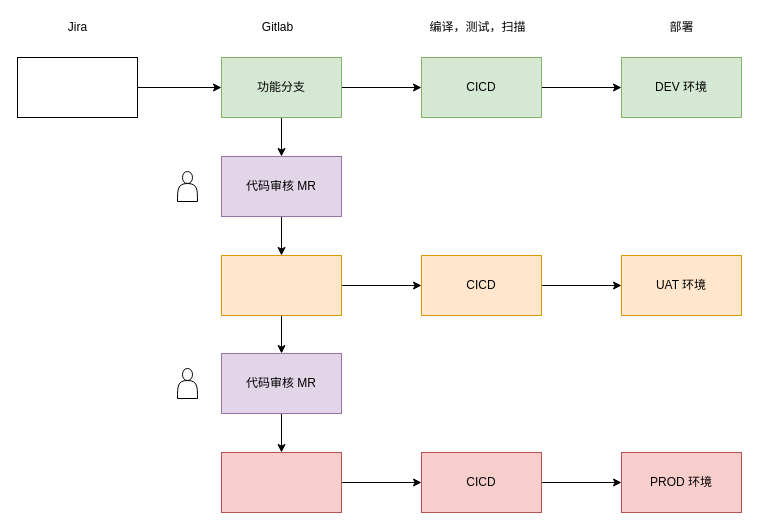
Image size: 759x530. Some labels were removed from this diagram. Here are the shapes that lost their labels. From the top down, the box of each, then its label:
(16, 56, 138, 118): 功能开发
(220, 254, 342, 316): UAT 分支
(220, 452, 342, 512): Main 分支
